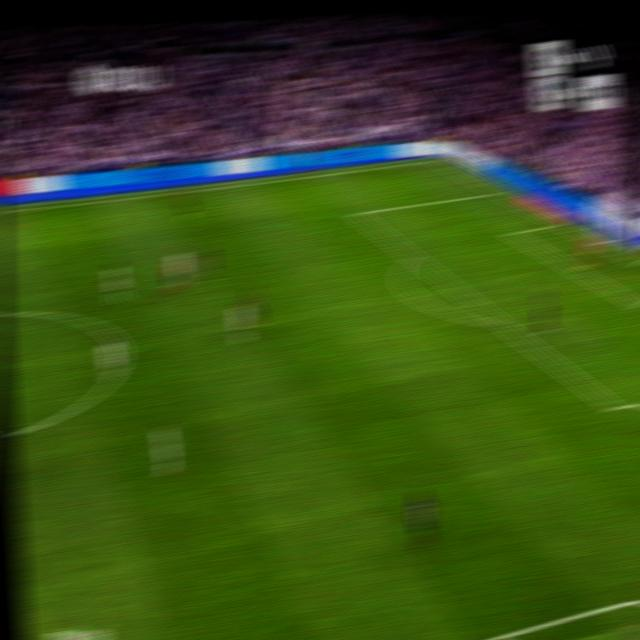bigarea_bottom_inner: (606, 396, 625, 419)
bigarea_top_inner: (350, 208, 366, 219)
bigarea_top_outter: (488, 184, 506, 197)
bottom_arc_area_intersection: (490, 313, 510, 332)
corner: (429, 156, 444, 164)
smallarea_top_inner: (506, 228, 520, 237)
smallarea_top_outter: (551, 217, 568, 229)
top_arc_area_intersection: (405, 249, 421, 263)
